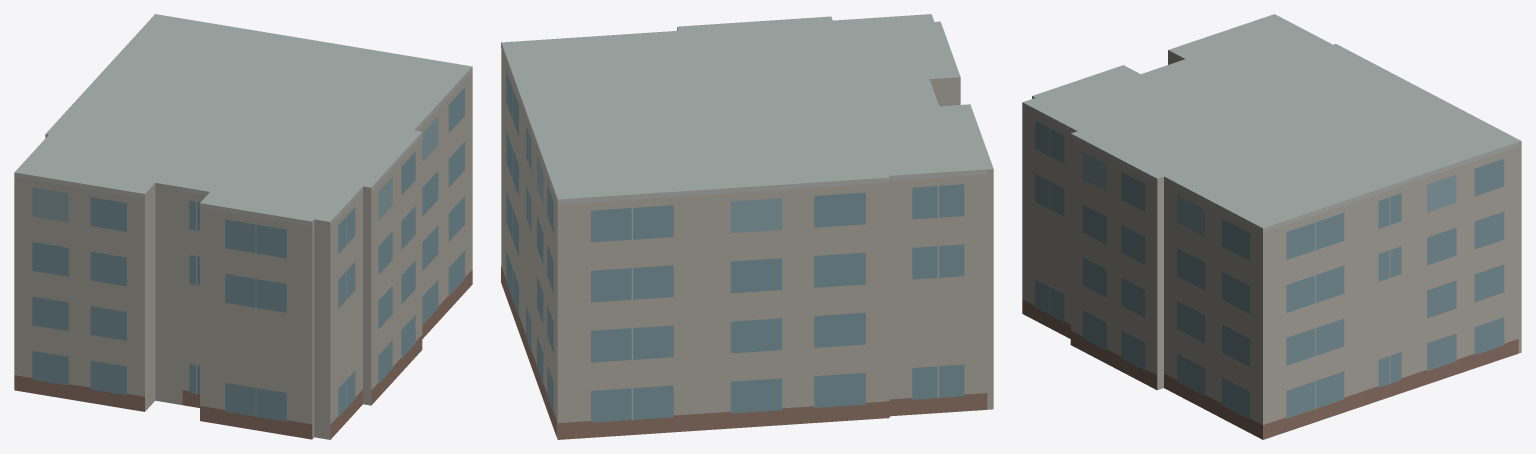
File: survey-upis-32724194.glb
3 renders of one model, left to right at view 1: azimuth 30°, elevation 25°; view 2: azimuth 150°, elevation 25°; view 3: azimuth 270°, elevation 25°, orthographic. The views are drawn at different scales.
Parts seen in each view (by area): view 1: survey-upis-32724194.tmp; view 2: survey-upis-32724194.tmp; view 3: survey-upis-32724194.tmp.
Boxes of the visible parts, x1=… form: survey-upis-32724194.tmp: x1=14, y1=14, x2=472, y2=439; survey-upis-32724194.tmp: x1=501, y1=14, x2=993, y2=439; survey-upis-32724194.tmp: x1=1022, y1=14, x2=1521, y2=439.
Size of the model in its own units: 24.99 by 11.5 by 24.59.
